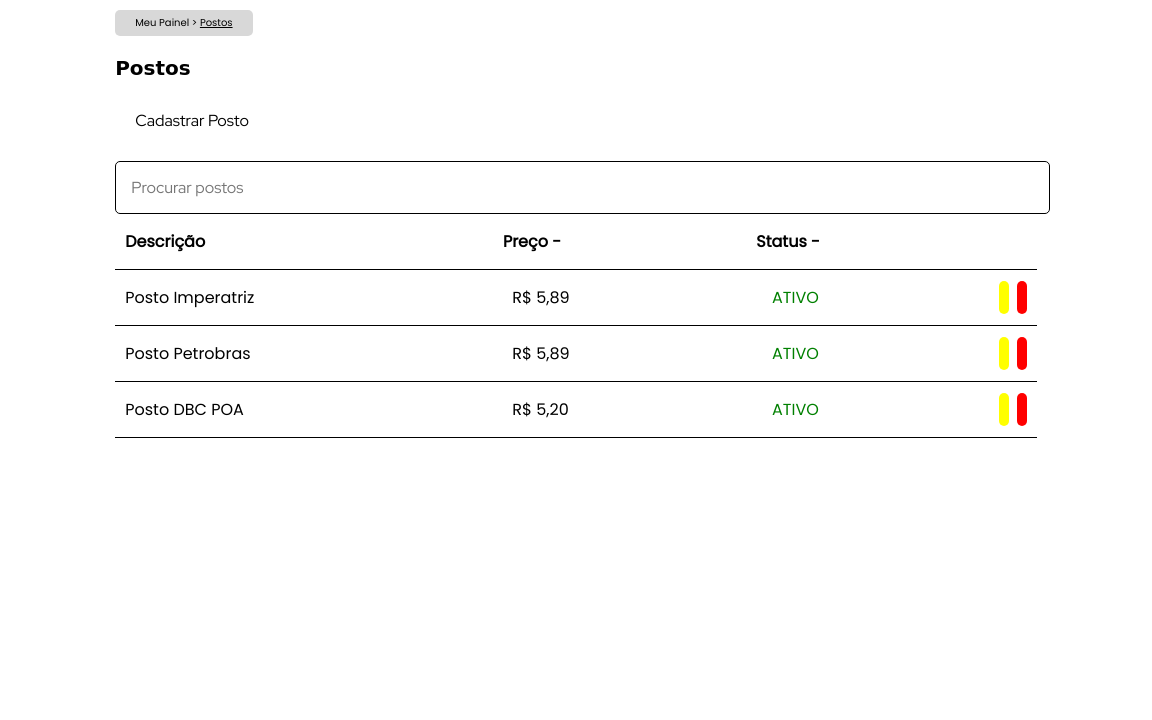
Test: GasStations Page › should open RemoveGasStationModal when delete button is clicked
This screenshot has width=1152, height=720.
Click the 2nd button titled "Deletar Posto" at coordinates (1022, 298), box top-left (1017, 285), bottom-right (1027, 310)
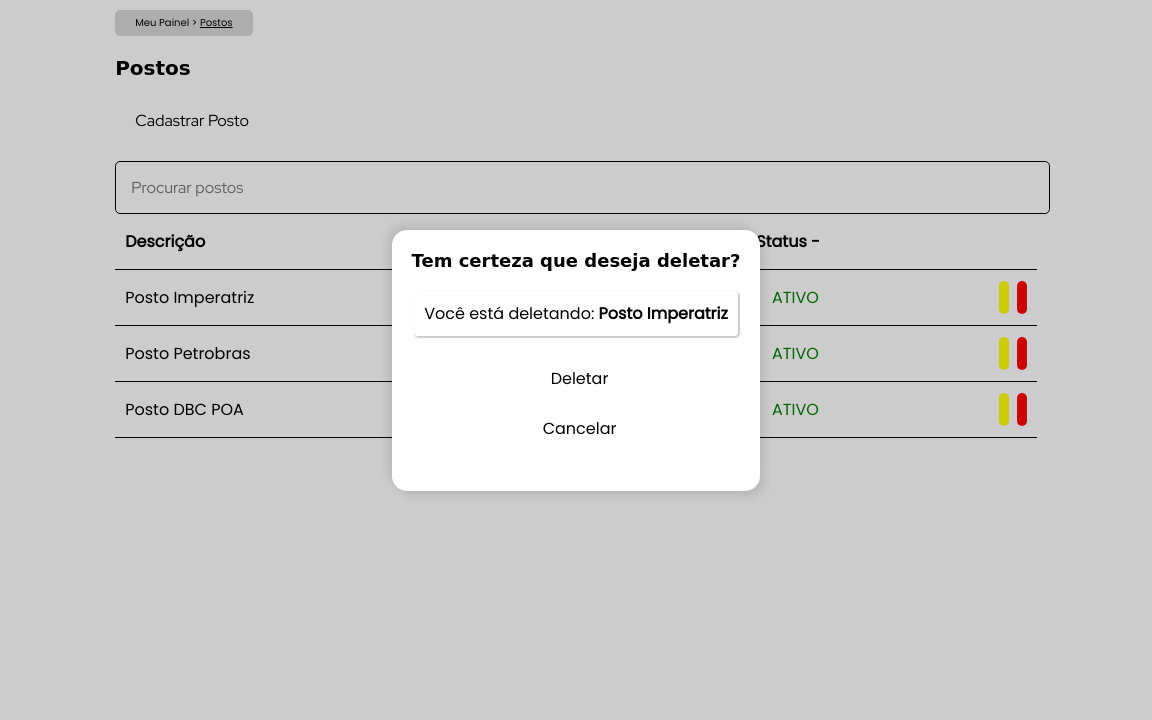
Expected: the heading "Tem certeza que deseja deletar?" is shown, top-left (412, 250), bottom-right (740, 270)
